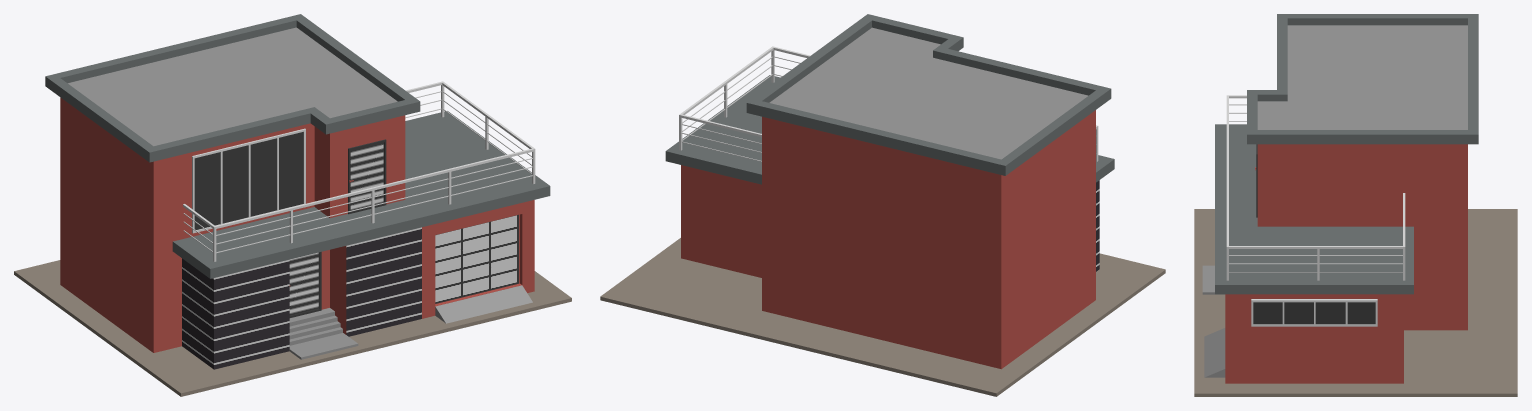
Rendered from building-house-02-color02.glb.
3 views of the same model, side by side, from view 1: azimuth 30°, elevation 25°; view 2: azimuth 150°, elevation 25°; view 3: azimuth 270°, elevation 25° (orthographic). The views are drawn at different scales.
Parts seen in each view (by area): view 1: model; view 2: model; view 3: model.
Boxes of the visible parts, bbox=[...] form: model: bbox=[14, 14, 571, 396]; model: bbox=[600, 14, 1165, 396]; model: bbox=[1194, 14, 1517, 396].
Size of the model in its own units: 17.58 by 9.04 by 13.01.
Materials: 1 (1 with a texture image).
